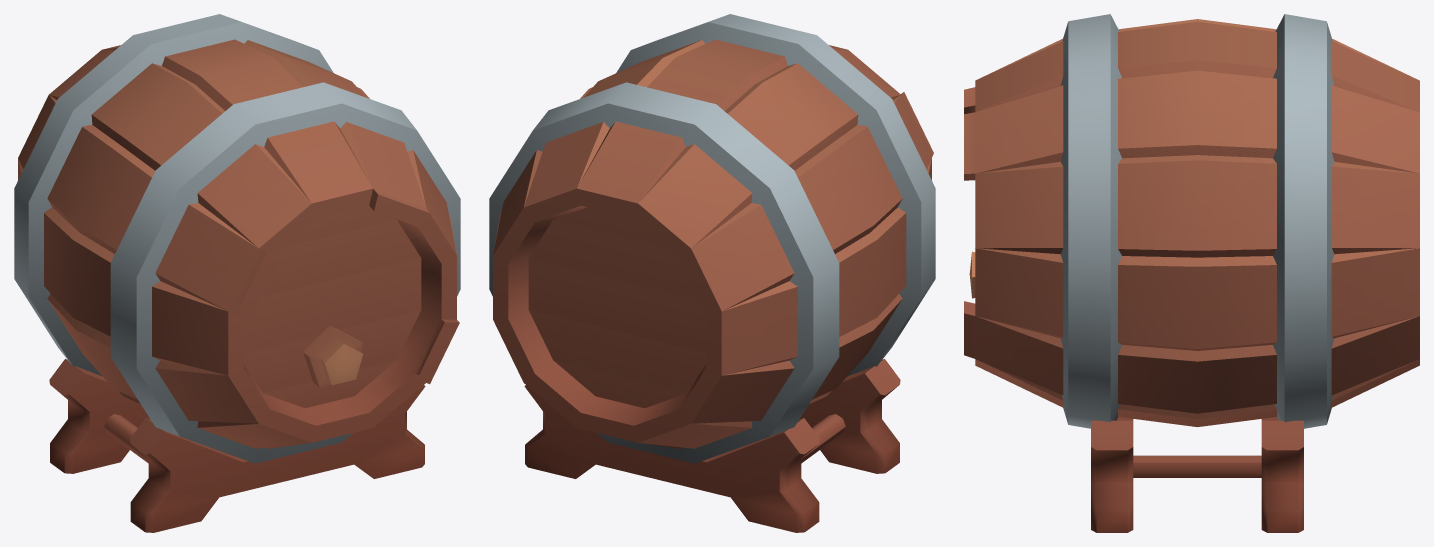
The model's file is dungeon-keg.glb.
The picture shows the model from 3 angles, left to right: view 1: azimuth 30°, elevation 25°; view 2: azimuth 150°, elevation 25°; view 3: azimuth 270°, elevation 25°; orthographic projection. The views are drawn at different scales.
Parts seen in each view (by area): view 1: dungeon-keg; view 2: dungeon-keg; view 3: dungeon-keg.
Boxes of the visible parts, x1,y1,x2,y2 form: dungeon-keg: (14,14,460,532); dungeon-keg: (489,14,935,532); dungeon-keg: (964,14,1419,532).
Bounding box in the file's own units: 1.35 × 1.54 × 1.5.
1 material, 1 textured.
